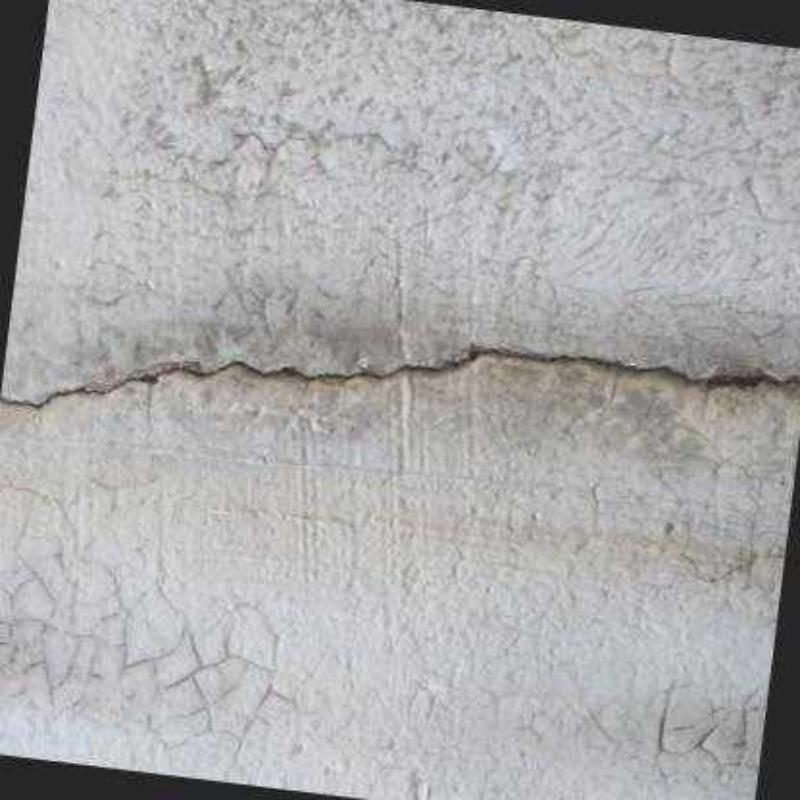pothole: (1, 348, 799, 408)
